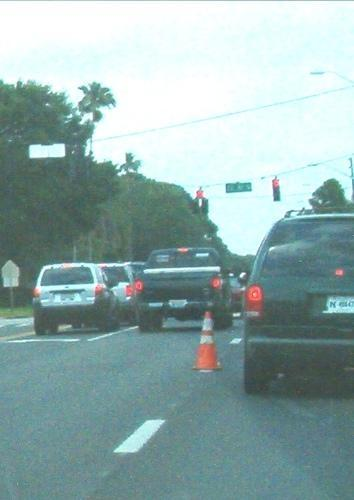car: (242, 214, 354, 397), (39, 266, 117, 332), (88, 263, 138, 325), (130, 262, 145, 278)
truck: (136, 248, 235, 332)
